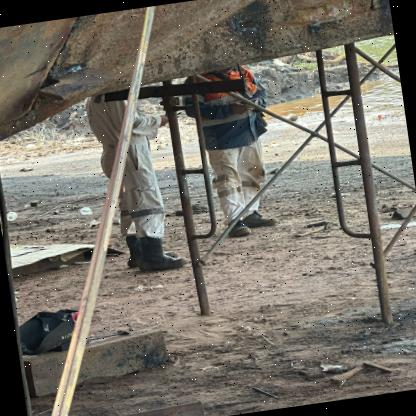bota: (122, 226, 189, 272), (240, 207, 281, 232), (224, 219, 250, 238)
